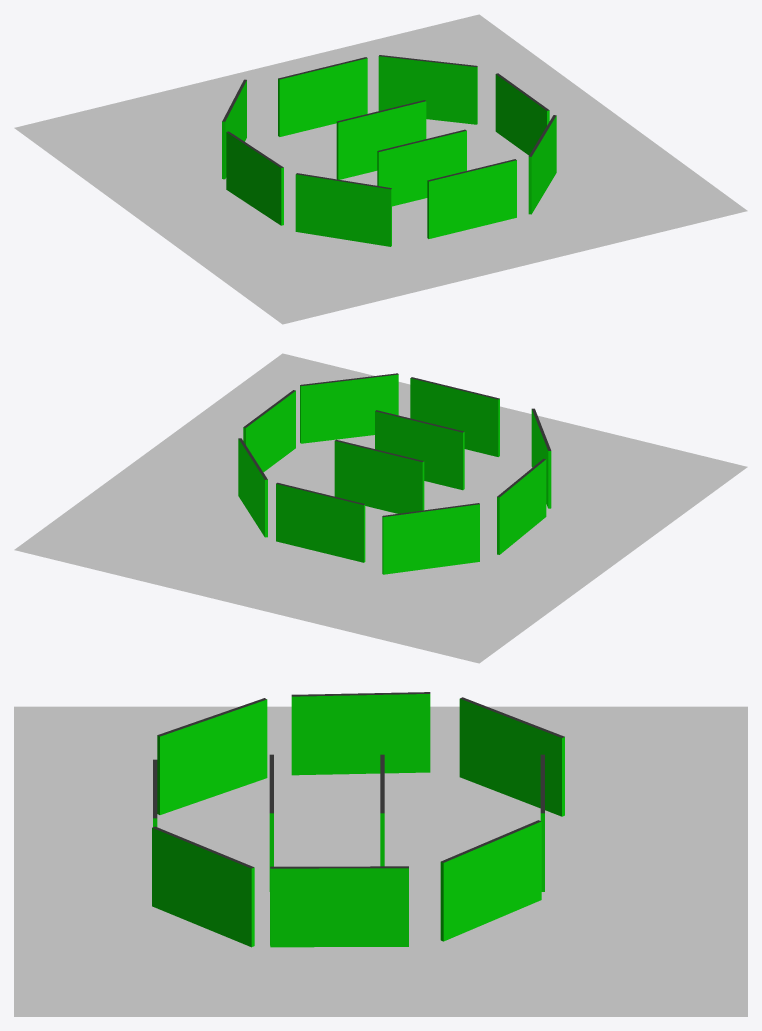
The model's file is foo.obj.
3 views of the same model, one above another, from view 1: azimuth 30°, elevation 25°; view 2: azimuth 150°, elevation 25°; view 3: azimuth 270°, elevation 25° (orthographic). The views are drawn at different scales.
Size of the model in its own units: 1.07 by 0.127 by 1.07.
